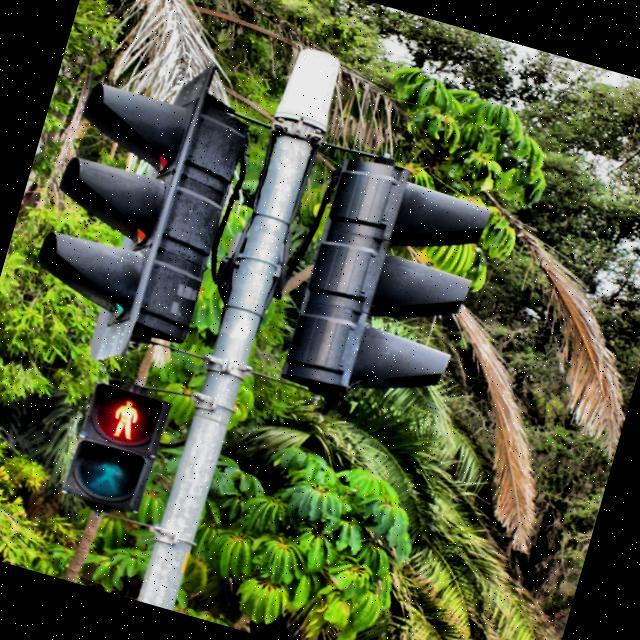red_light: (105, 394, 143, 442)
